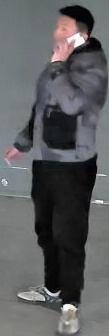phone: (43, 6, 98, 119)
